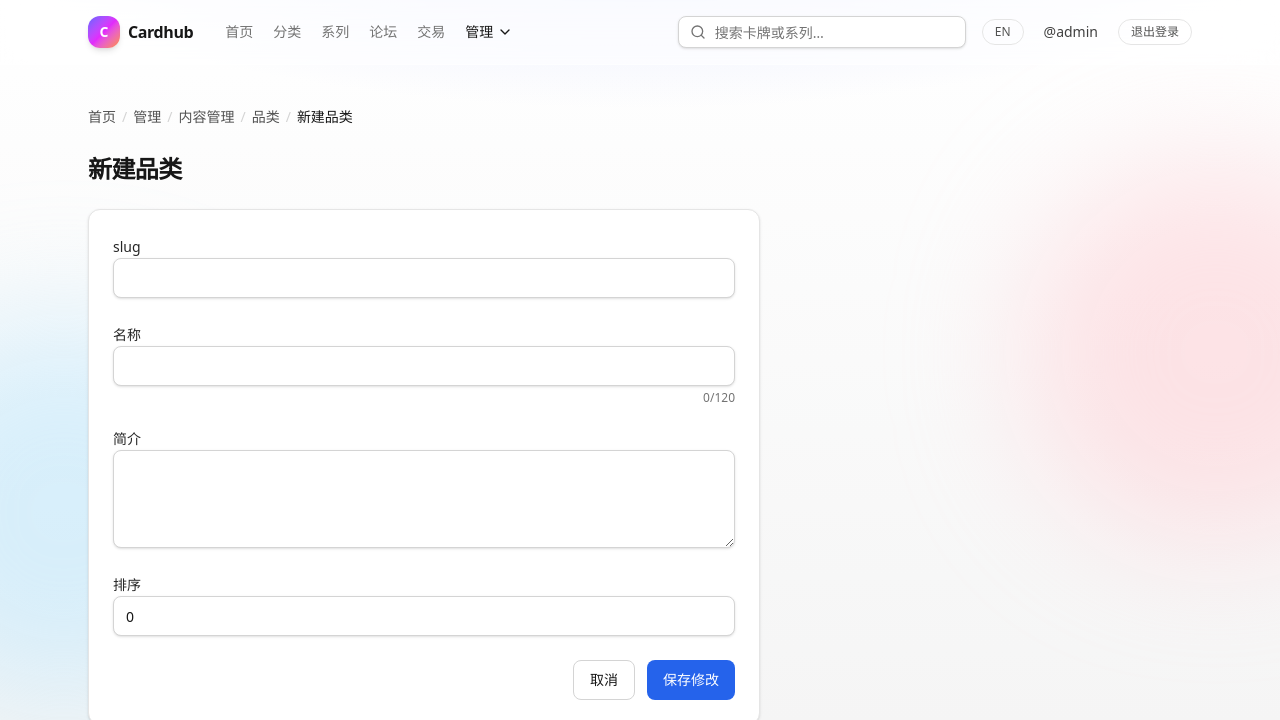
category form server validation › shows a server sort order error under the sort field
Type "deck-builder" into the field labelled "slug". click: (424, 278)
box: [113,258,735,298]
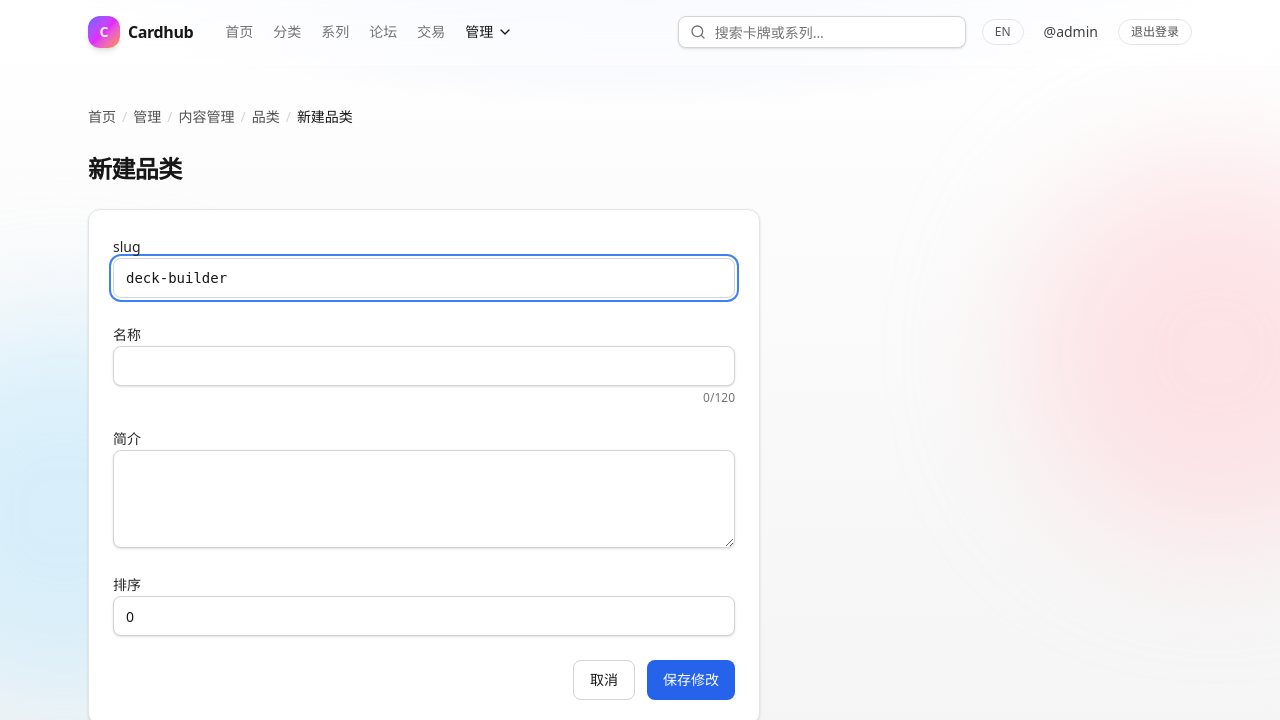
Type "构筑" into the field labelled "名称". click: (424, 366)
box: [113,346,735,386]
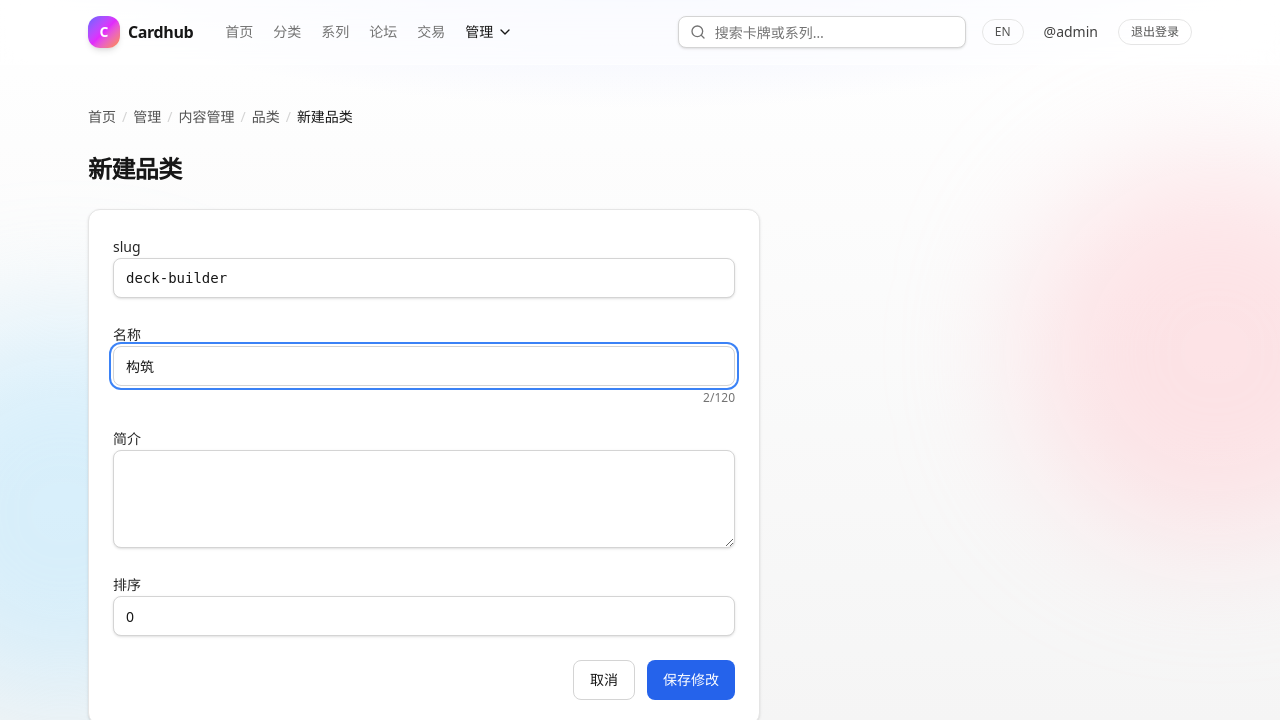
Click the button "保存修改". click: (691, 680)
box: [647,660,735,700]
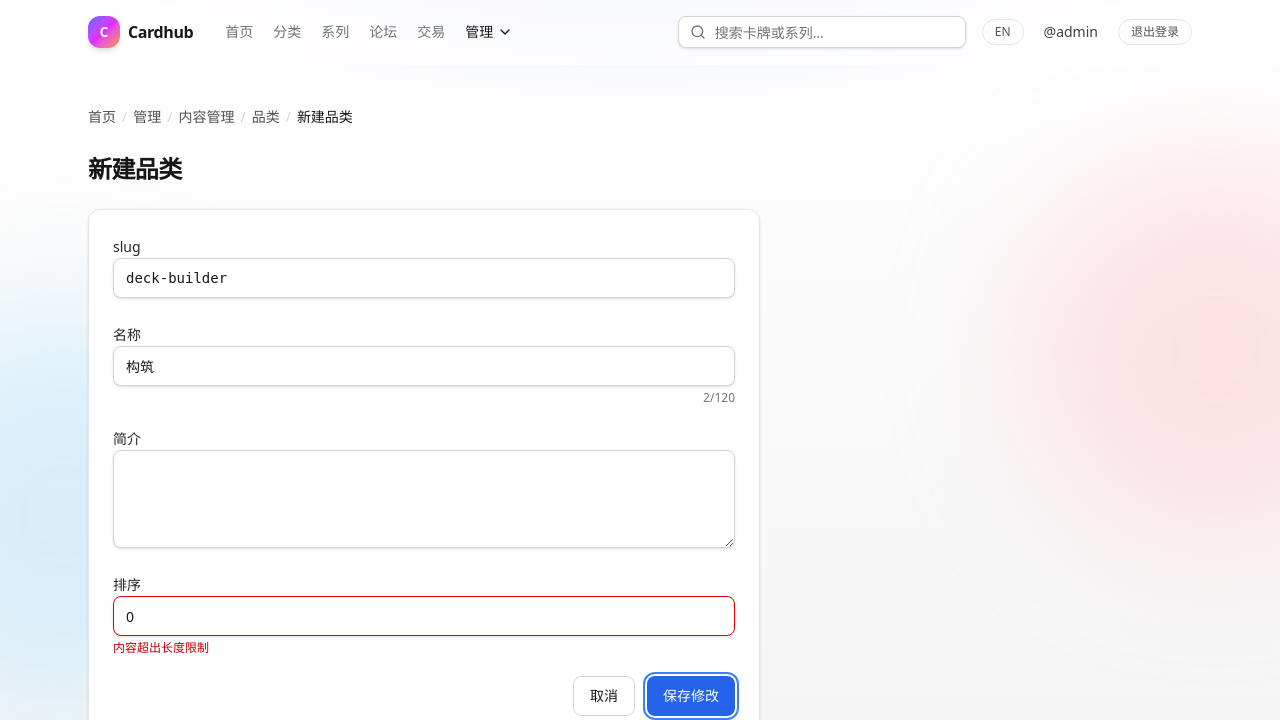
expect the text with id "category-sort-error" reads "内容超出长度限制": met, box [113,639,209,656]
